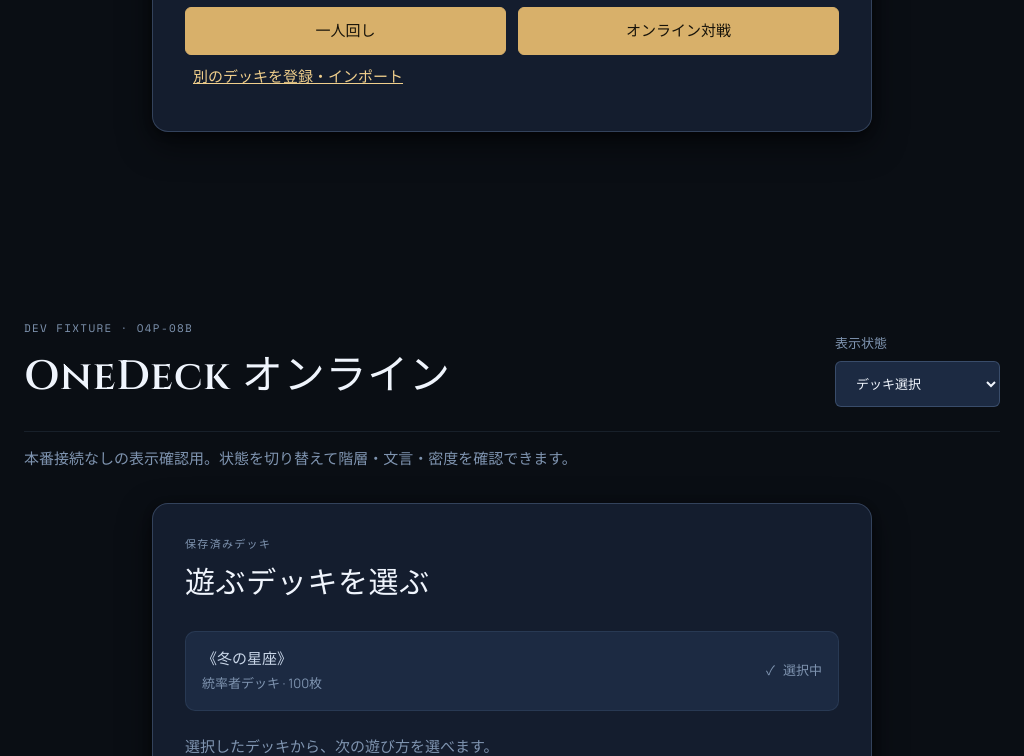
Test case: O4P-08B disconnected online lobby prototype › offers exactly one shared invitation code input in join state
(page scrolled)
Select "オンライン入口" in the dropdown labelled "表示状態" at (918, 384), box [835,361,1000,407]
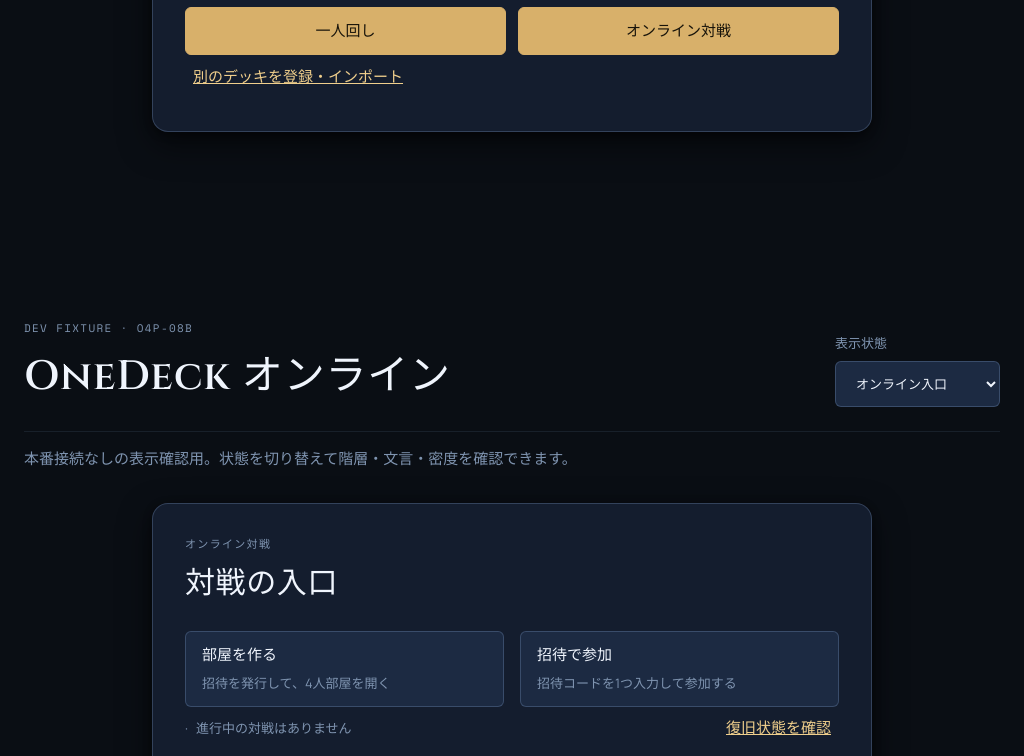
Click the button "招待で参加 招待コードを1つ入力して参加する".
click(575, 654)  # box [520,631,839,707]
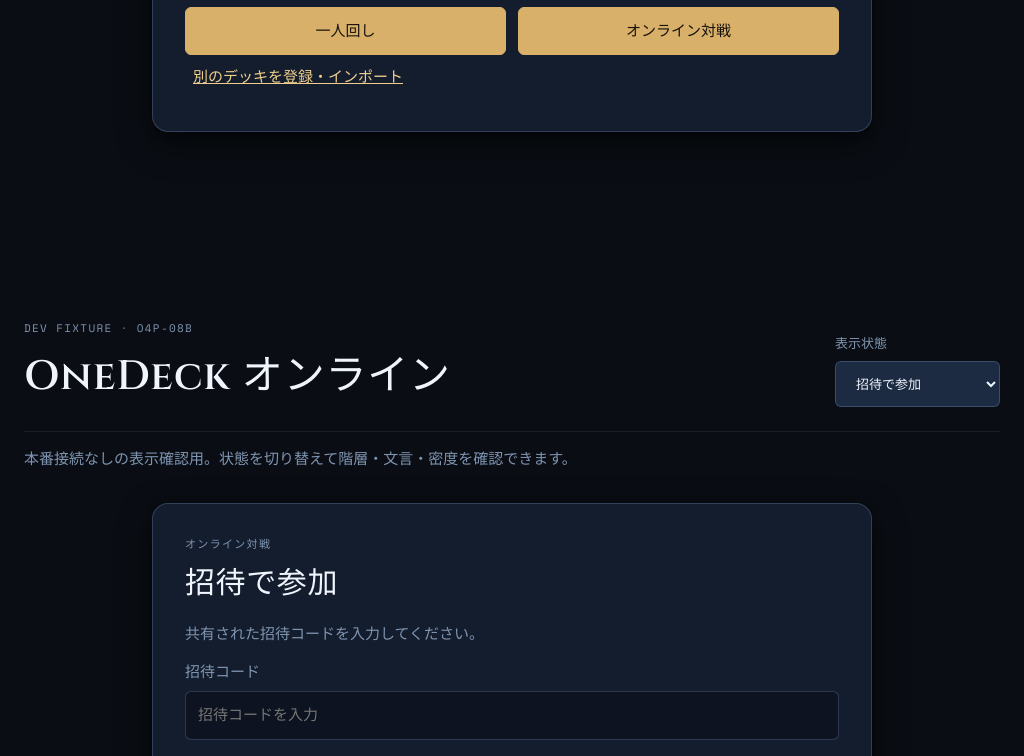
expect the number of fields is 1: met, box [185,691,839,740]
